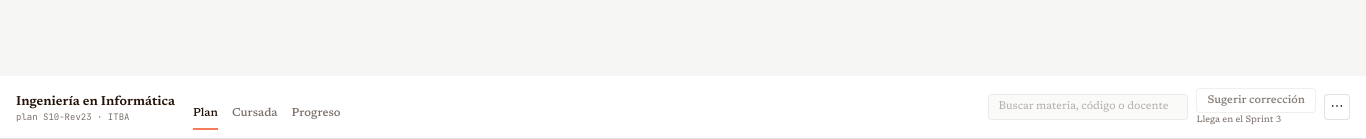
Scenario: BarraSuperior › Escape cierra el menú
The width and height of the screenshot is (1366, 139).
(page scrolled)
Step 1. Click the button named "Más acciones" → click(1337, 107), box [1324,94,1350,120]
(page scrolled)
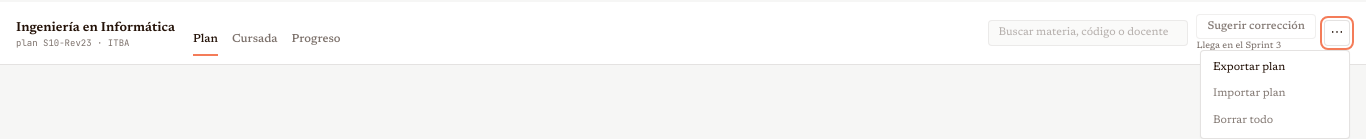
Expected: the menu is shown, [1200,50,1350,138]
Step 2. Press Escape
(page scrolled)
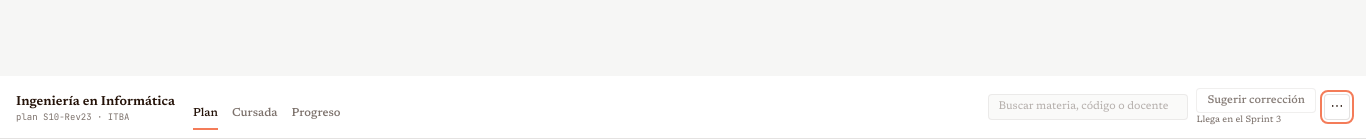
Expected: the menu is gone
